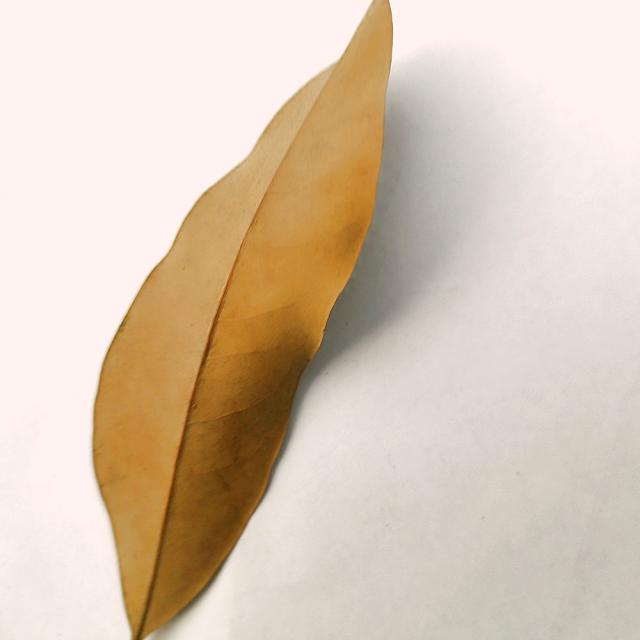Dry_Leaf-Lychee: (91, 0, 395, 639)
